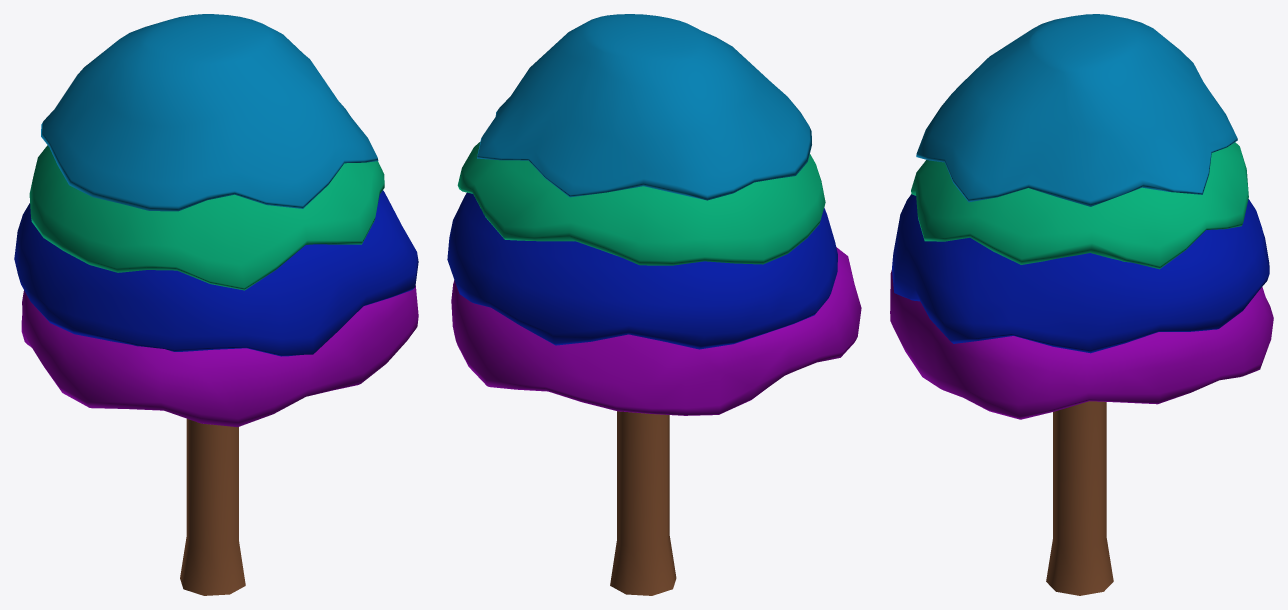
The model's file is Tree.fbx.
The picture shows the model from 3 angles, left to right: view 1: azimuth 30°, elevation 25°; view 2: azimuth 150°, elevation 25°; view 3: azimuth 270°, elevation 25°; orthographic projection.
Parts seen in each view (by area): view 1: Tree; view 2: Tree; view 3: Tree.
Part boxes in pixels (x1,y1,x2,y2): Tree: (14, 14, 418, 595); Tree: (447, 14, 861, 595); Tree: (890, 14, 1273, 595).
Size of the model in its own units: 2.7 by 4.04 by 2.57.
